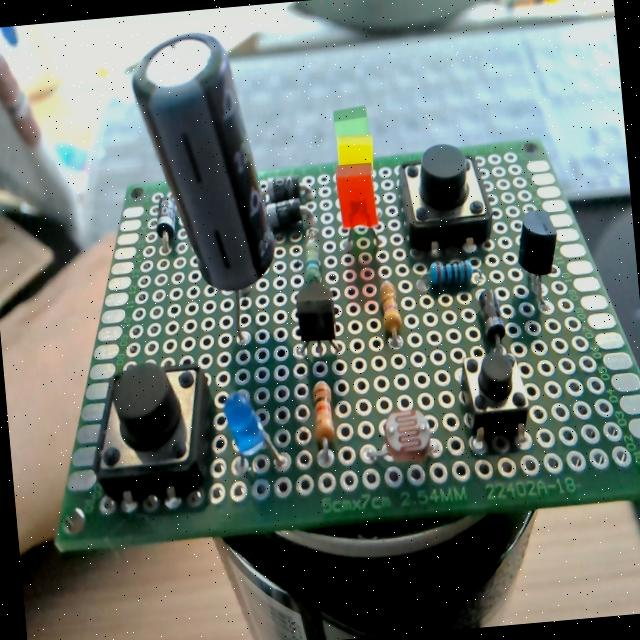Electrolytic capacitor: (131, 31, 288, 344)
cds: (362, 405, 442, 466)
diode: (478, 287, 505, 343), (264, 198, 305, 232), (153, 194, 178, 245), (262, 174, 302, 203)
led: (221, 384, 289, 472), (334, 162, 379, 230), (336, 131, 374, 169), (332, 104, 368, 136)
resistor: (309, 378, 338, 464), (378, 278, 403, 345), (425, 257, 475, 289), (302, 238, 322, 284)
switch: (82, 354, 220, 503), (396, 144, 494, 258), (457, 338, 532, 448)
transistor: (512, 208, 564, 314), (292, 280, 340, 350)
